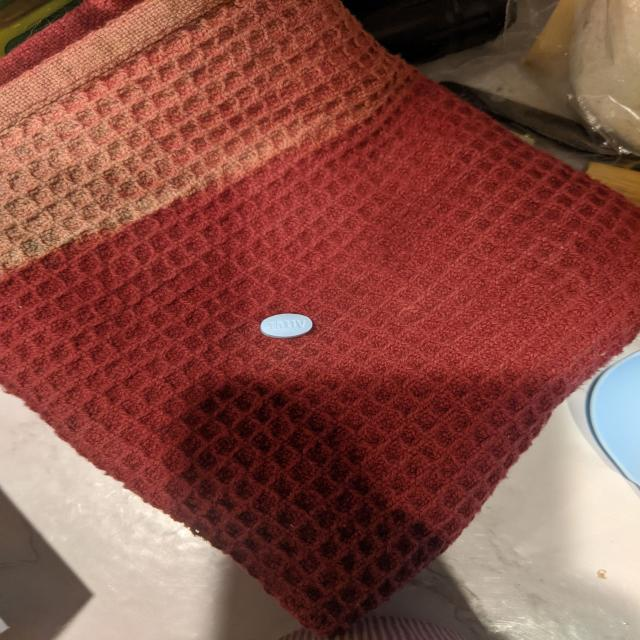non-organic waste: (260, 312, 314, 339)
